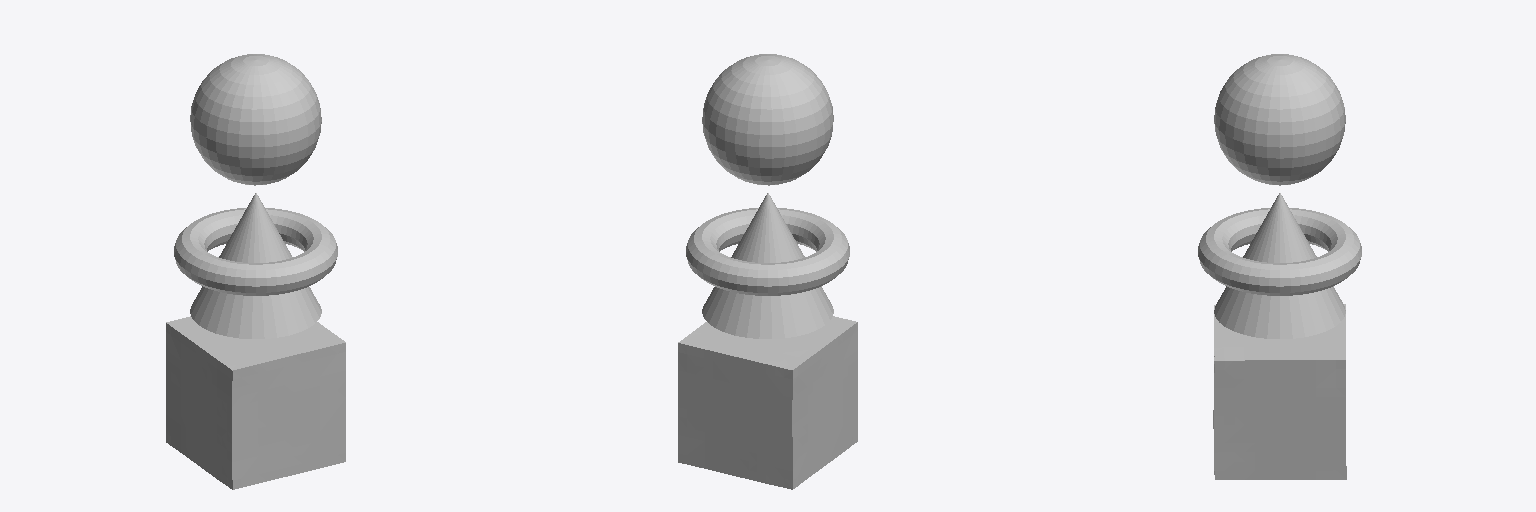
The model's file is figures.obj.
The picture shows the model from 3 angles: view 1: azimuth 30°, elevation 25°; view 2: azimuth 150°, elevation 25°; view 3: azimuth 270°, elevation 25°; orthographic projection.
Visible parts, largest first — view 1: Cube, Sphere, Torus, Cone; view 2: Cube, Sphere, Torus, Cone; view 3: Cube, Sphere, Torus, Cone.
Part boxes in pixels (left/top/right/bottom): Cube: left=166, top=316, right=345, bottom=489; Sphere: left=190, top=54, right=321, bottom=185; Torus: left=174, top=208, right=337, bottom=295; Cone: left=190, top=193, right=321, bottom=338; Cube: left=678, top=316, right=857, bottom=489; Sphere: left=702, top=54, right=833, bottom=185; Torus: left=686, top=208, right=849, bottom=295; Cone: left=702, top=193, right=833, bottom=338; Cube: left=1213, top=304, right=1346, bottom=479; Sphere: left=1214, top=54, right=1345, bottom=185; Torus: left=1198, top=208, right=1361, bottom=295; Cone: left=1214, top=193, right=1345, bottom=338.
Bounding box in the file's own units: 2.11 × 5.55 × 2.11.